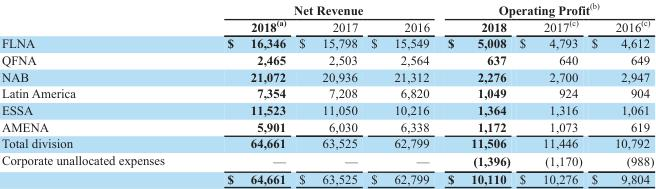table: (0, 0, 653, 186)
table column: (0, 0, 195, 186), (195, 0, 291, 186), (438, 0, 514, 186), (363, 0, 438, 186), (291, 0, 363, 186), (514, 0, 586, 186), (586, 0, 653, 186)
table column header: (0, 0, 653, 34)
table row: (0, 16, 653, 34), (0, 151, 653, 169), (0, 34, 653, 51), (0, 67, 653, 84), (0, 84, 653, 101), (0, 117, 653, 134), (0, 134, 653, 151), (0, 169, 653, 186), (0, 0, 653, 16), (0, 51, 653, 67), (0, 101, 653, 117)
table spanning cell: (195, 0, 438, 16), (438, 0, 653, 16)
